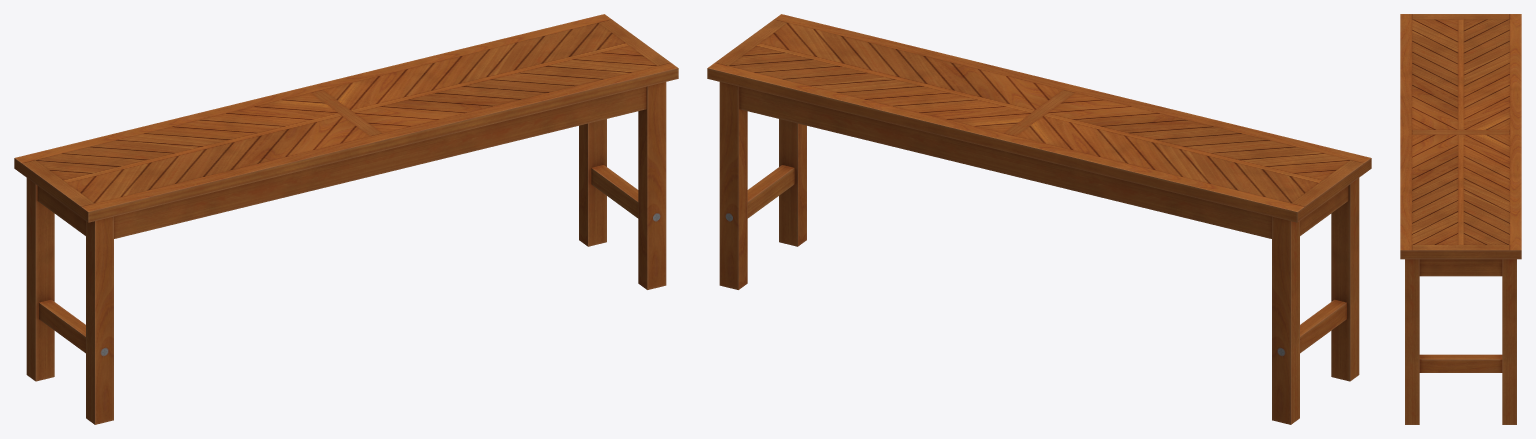
The model's file is GardenFurnitureSet05_3.FBX.
3 renders of one model, left to right at view 1: azimuth 30°, elevation 25°; view 2: azimuth 150°, elevation 25°; view 3: azimuth 270°, elevation 25°, orthographic. The views are drawn at different scales.
Parts seen in each view (by area): view 1: GardenFurnitureSet05_3; view 2: GardenFurnitureSet05_3; view 3: GardenFurnitureSet05_3.
Part boxes in pixels (bbox=[...]): GardenFurnitureSet05_3: bbox=[14, 14, 678, 424]; GardenFurnitureSet05_3: bbox=[707, 14, 1371, 424]; GardenFurnitureSet05_3: bbox=[1400, 14, 1521, 424].
Size of what is drawn, in the model's own units: 1.5 by 0.5268 by 0.3255.
